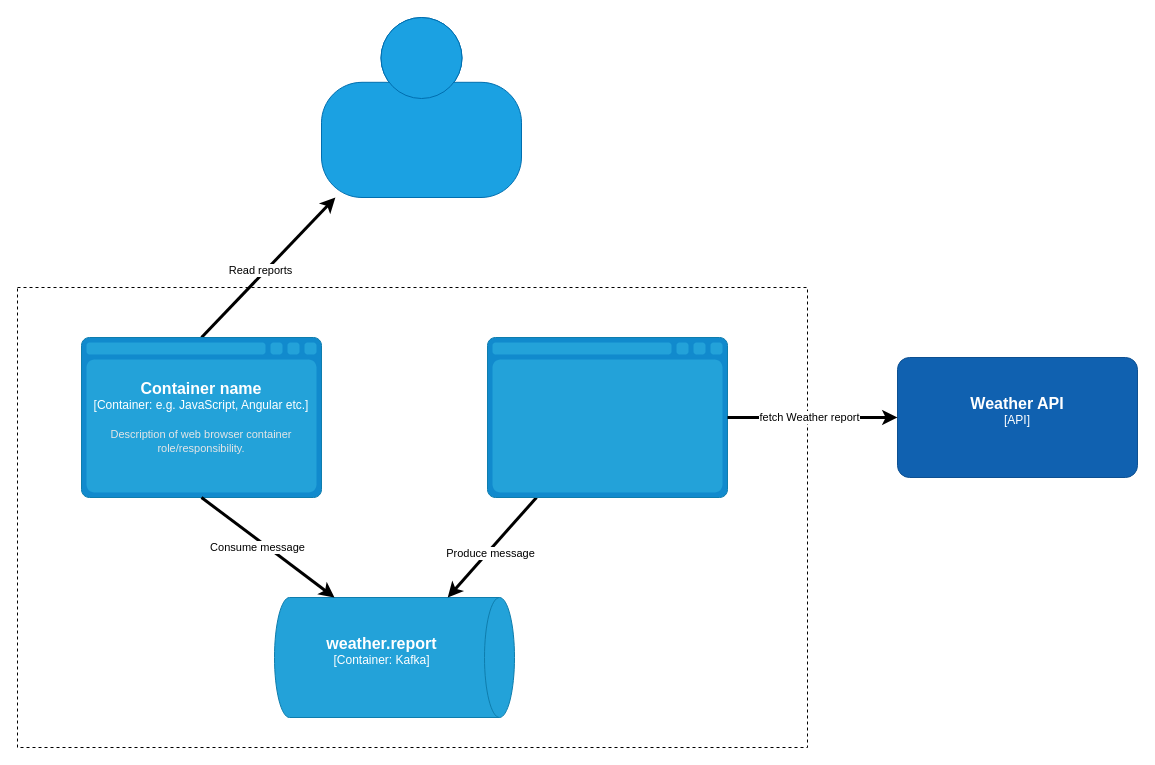
Image size: 1155x765. Some labels were removed from this diagram. The box of each missing label's shape, as (x1, y1, x2, y2) in pixels:
Person name [Person] Description of person.: (320, 16, 522, 198)
Weather Producer App [Container: Spring Boot]: (486, 336, 728, 498)
